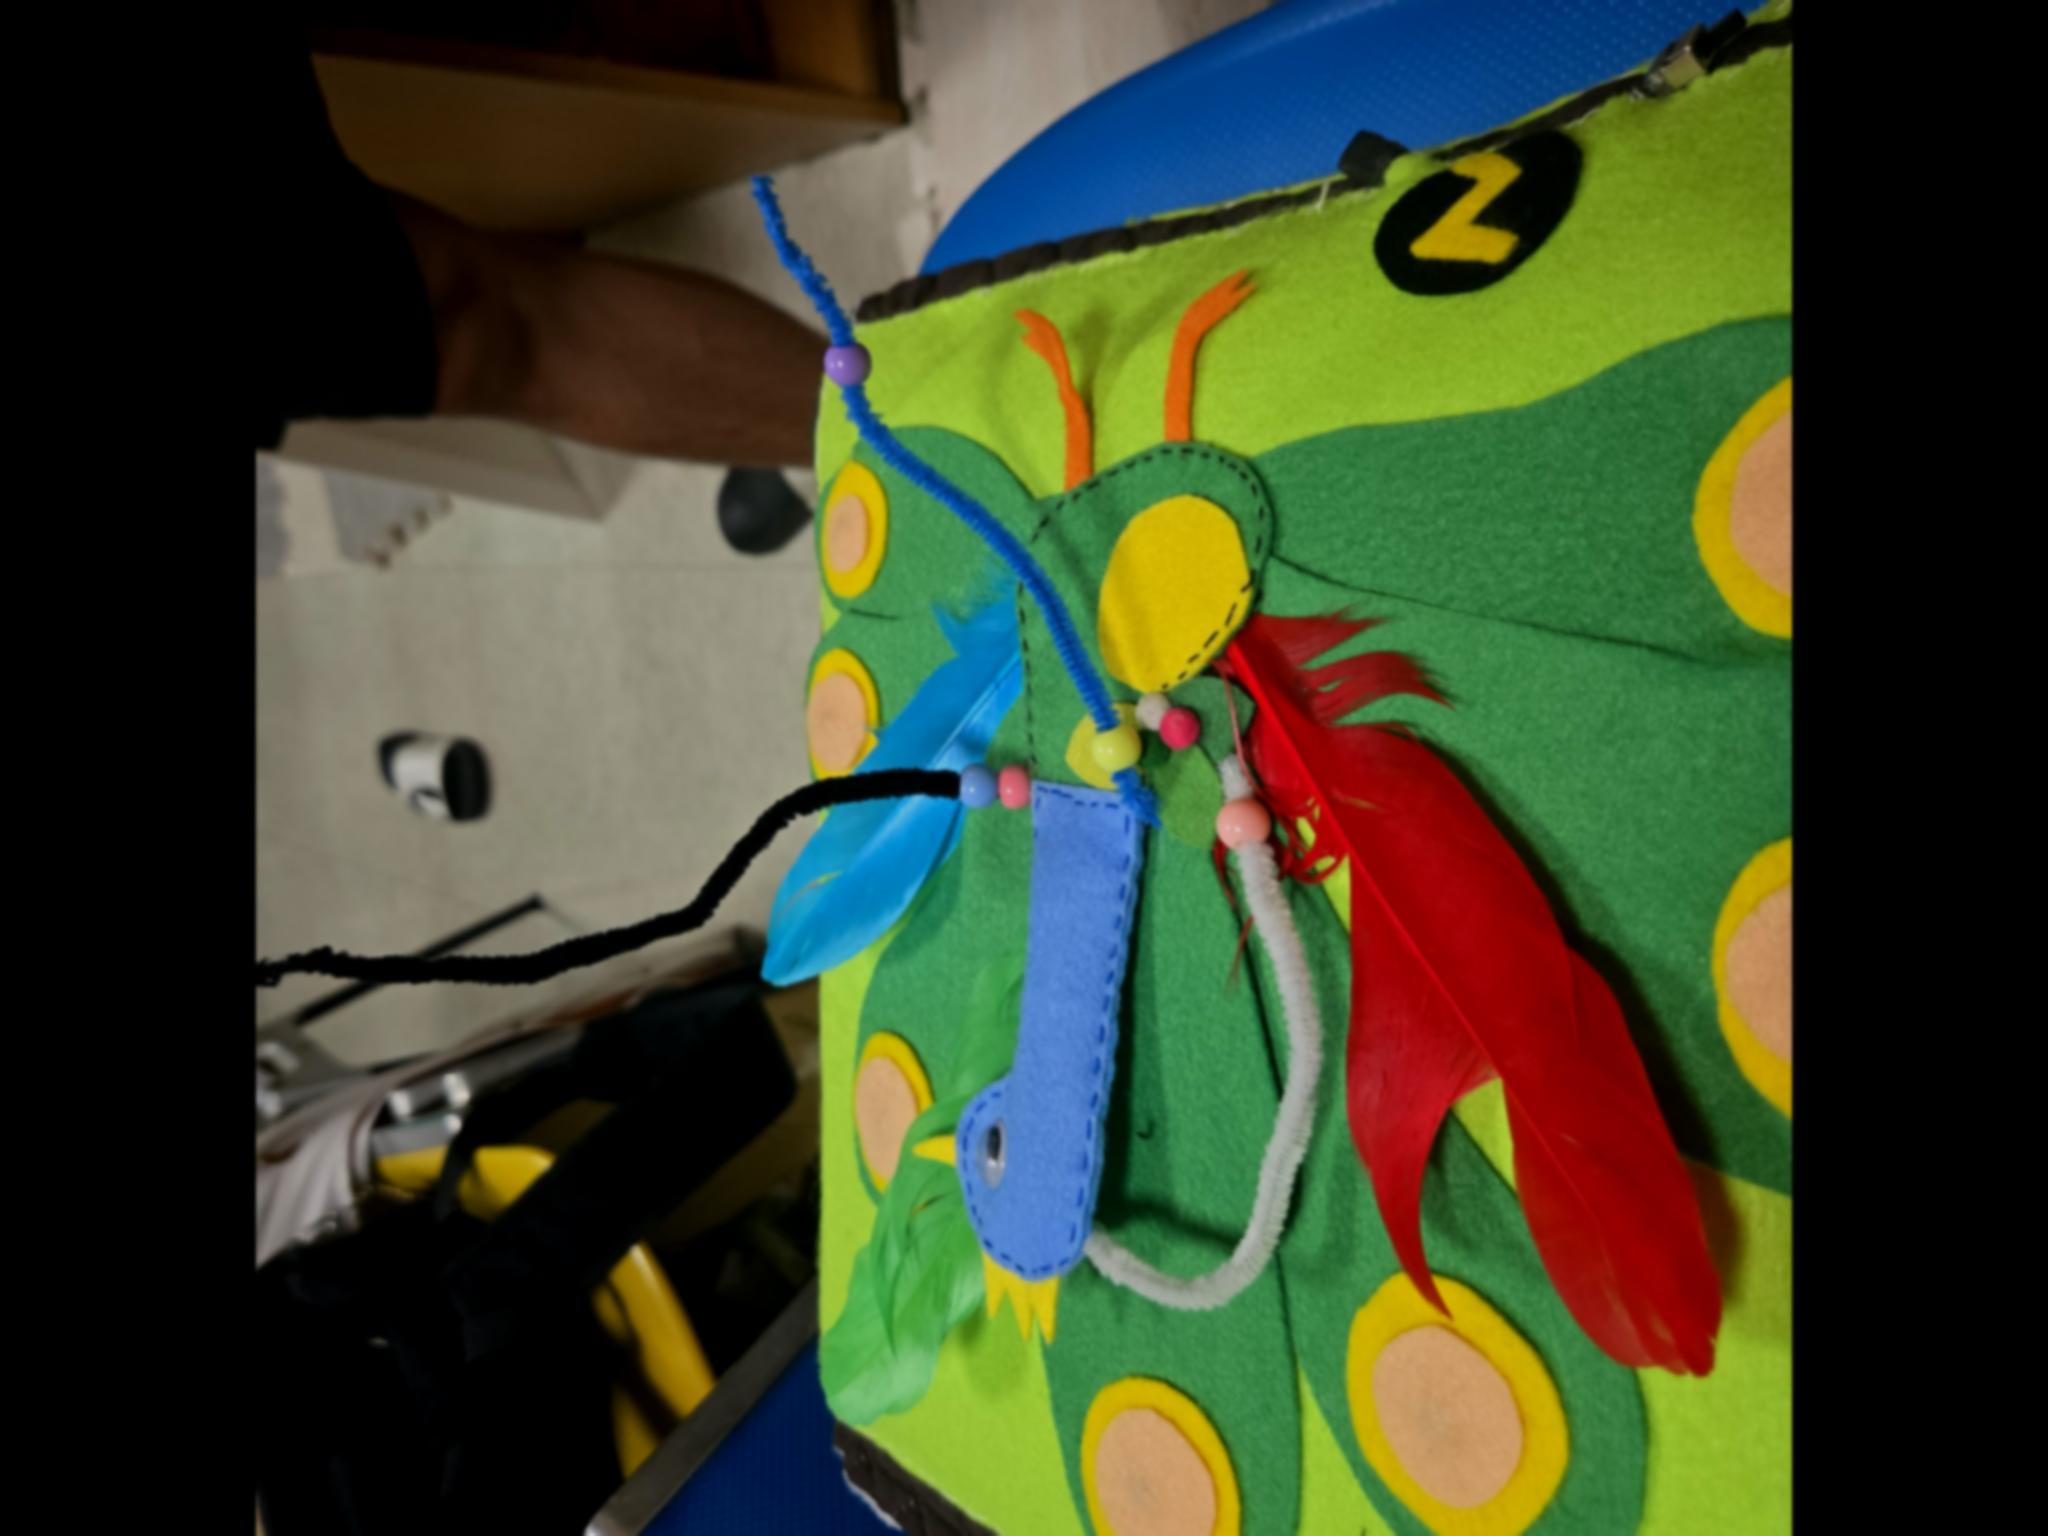bead: (1097, 728, 1156, 779), (824, 344, 874, 395), (1214, 794, 1264, 844), (993, 763, 1035, 812), (958, 768, 995, 808)
